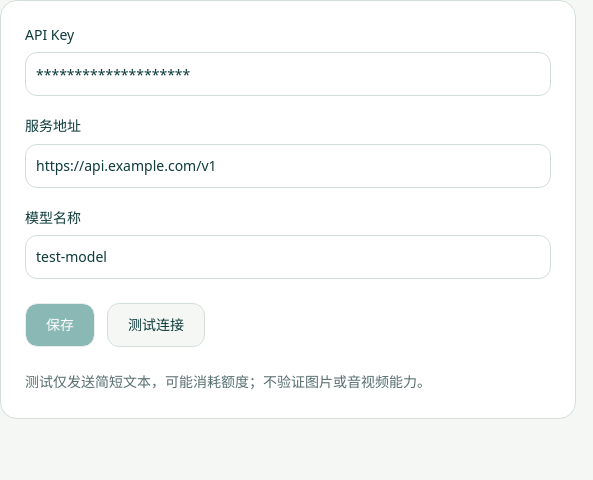
Test: AI settings form › retains a same-endpoint key by omitting it when only model changes
Expected: the field labelled "API Key" holds "********************", x1=25 y1=52 x2=551 y2=96
Step 1. Replace the text in the field labelled "模型名称" with "other-model" → (288, 257), box x1=25 y1=235 x2=551 y2=279
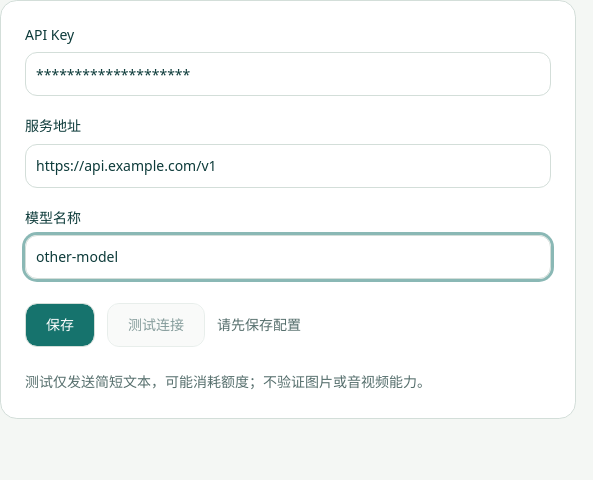
Step 2. Click the button "保存" → (60, 325), box x1=25 y1=303 x2=95 y2=347
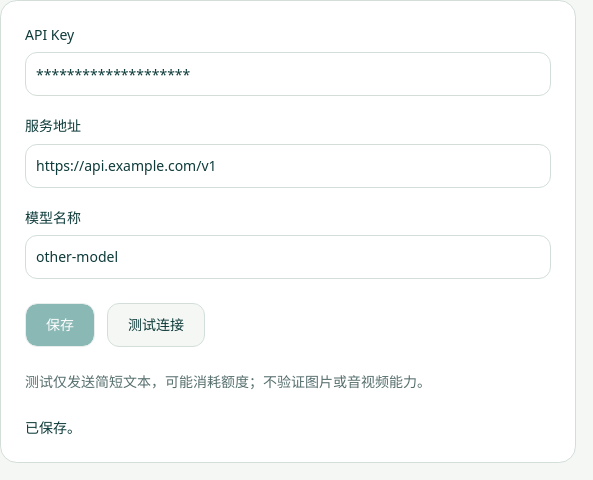
Expected: the text "已保存。" is shown, x1=25 y1=418 x2=81 y2=436
